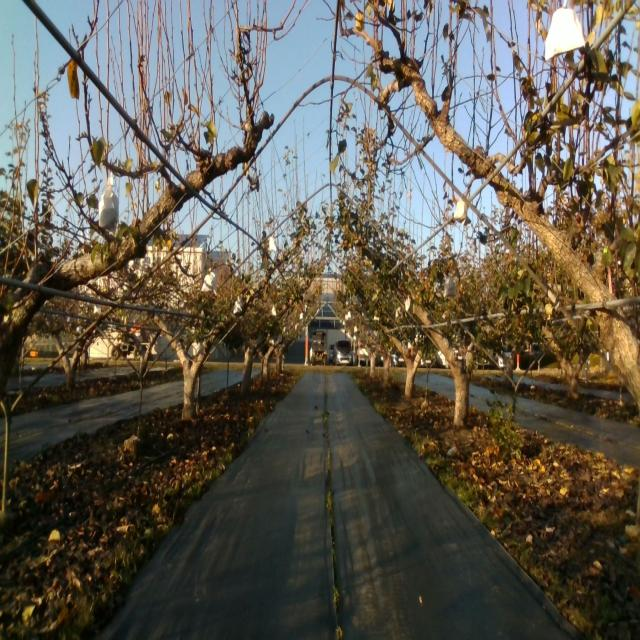pearbags: (542, 6, 585, 61), (98, 176, 119, 233), (453, 197, 467, 226), (201, 267, 215, 293), (444, 276, 457, 298)
